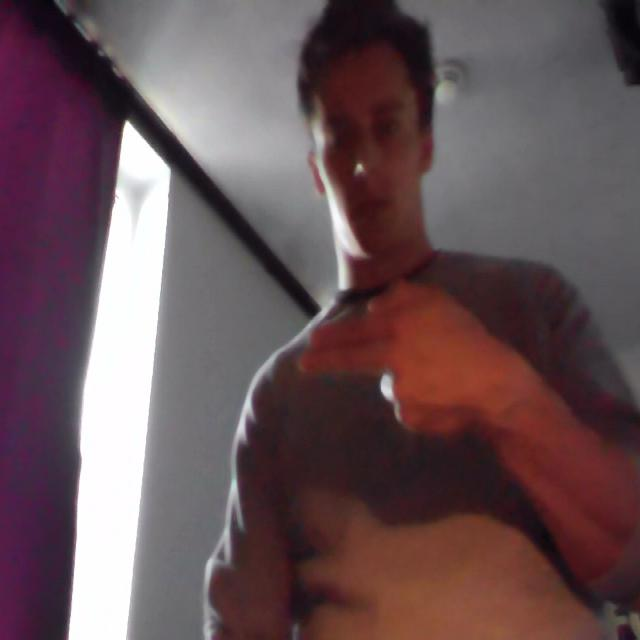left: (292, 277, 488, 450)
